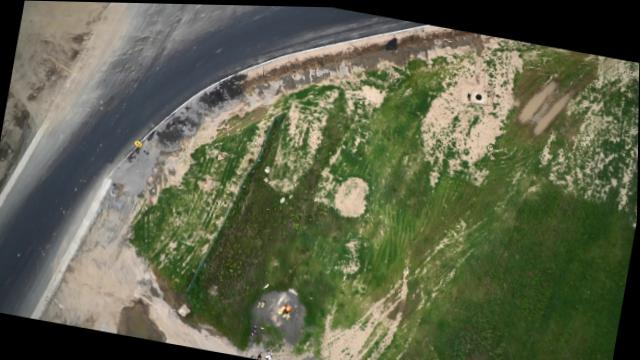fire: (270, 293, 304, 319)
